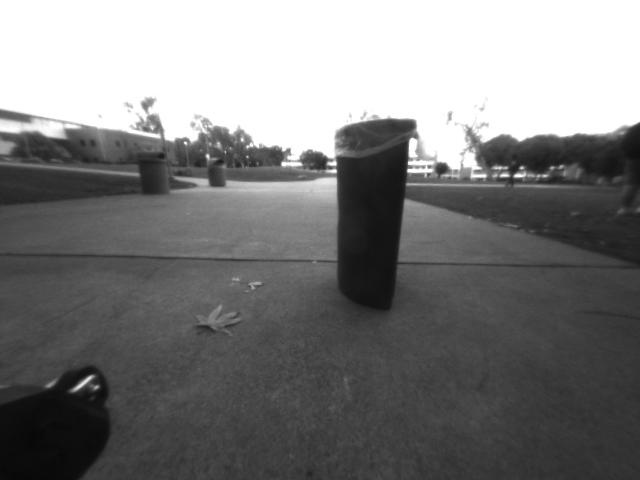trashcan: (331, 112, 423, 317)
